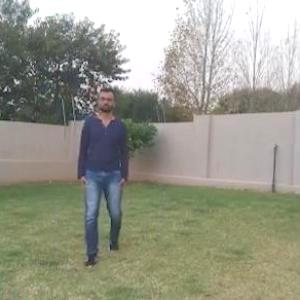follow: (81, 83, 124, 256)
